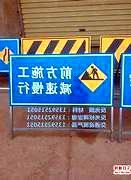sign: (11, 56, 112, 106)
